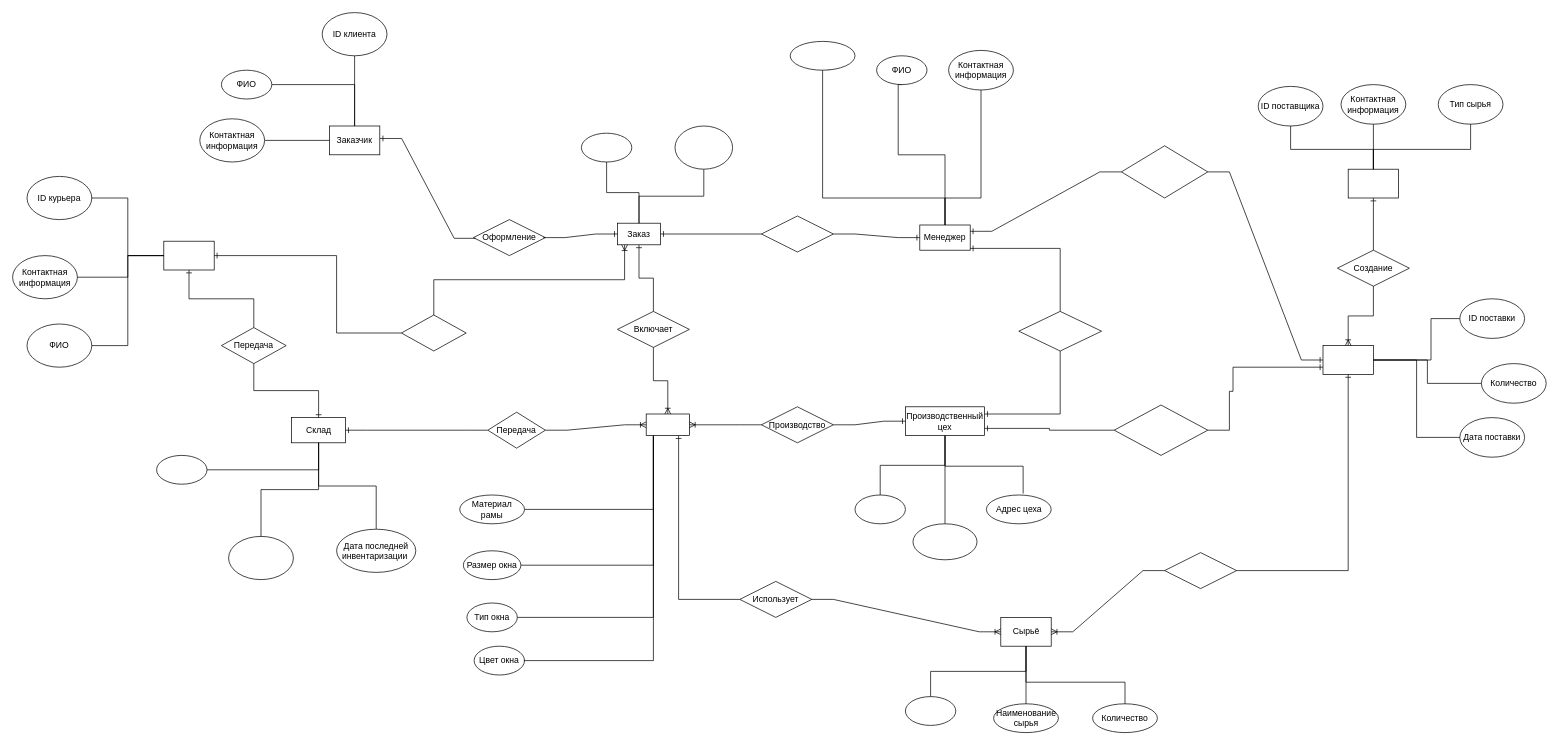
Image size: 1559x745. Some labels were removed from this diagram. Each missing label, with the centre of its shape:
ID заказа: [606,147]
ID заказов: [181,469]
ID менеджера: [822,55]
ID сырья: [930,710]
ID цеха: [879,509]
Дата размещения заказа: [703,147]
Доставка: [433,332]
Курьер: [188,255]
Название цеха: [944,541]
Назначение: [797,233]
Назначение цеха: [1060,331]
Окно: [667,424]
Отправка до цеха: [1160,429]
Поставка: [1347,359]
Поставщик сырья: [1373,183]
Создание поставки: [1164,171]
Составляет: [1200,570]
Текущий объем заполнения: [260,558]
